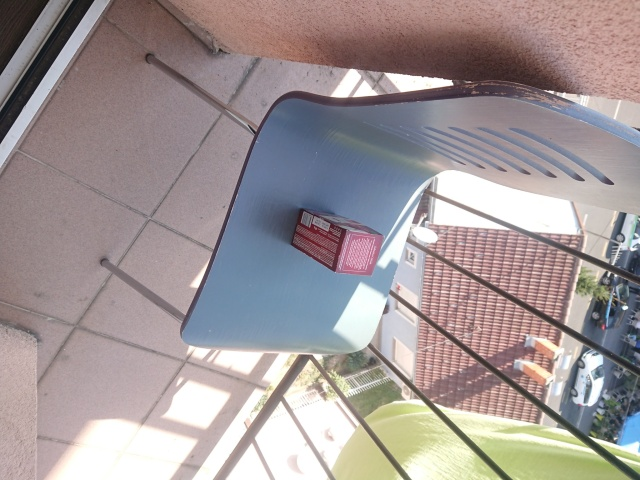Franck Apple Cinnamon Tea 60g: (288, 206, 385, 277)
